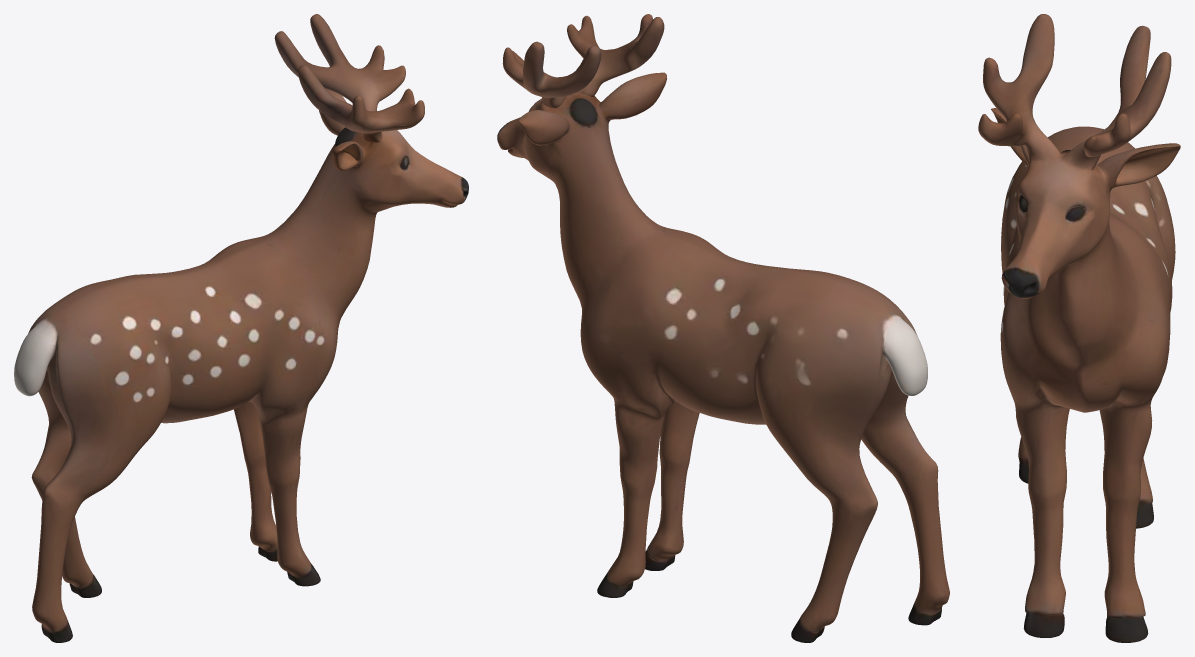
File: deer.glb
3 renders of one model, left to right at view 1: azimuth 30°, elevation 25°; view 2: azimuth 150°, elevation 25°; view 3: azimuth 270°, elevation 25°, orthographic. The views are drawn at different scales.
Parts seen in each view (by area): view 1: model; view 2: model; view 3: model.
Part boxes in pixels (x1=…): model: x1=14, y1=14, x2=468, y2=642; model: x1=497, y1=14, x2=949, y2=642; model: x1=978, y1=14, x2=1180, y2=642.
Bounding box in the file's own units: 0.5966 × 0.69 × 0.2047.
1 material, 1 textured.
